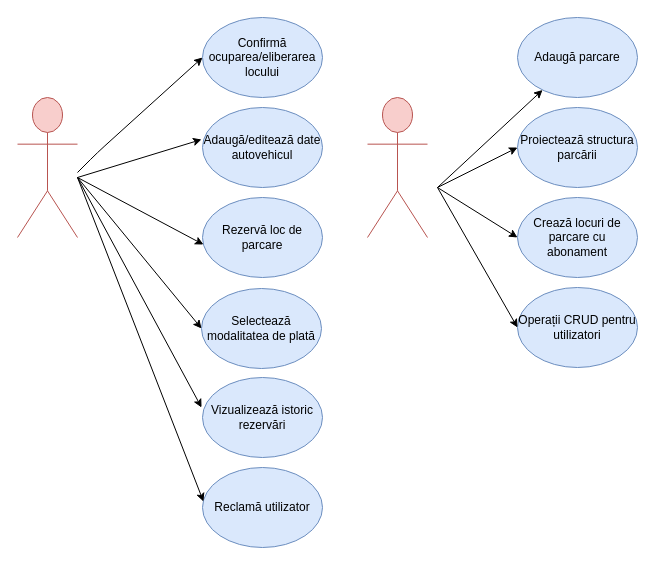
This 655x565 diagram has some shape labels left out. The shapes that lost their labels are listed below. From the top down, each one's box as (x1, y1, x2, y2) in pixels, then its label:
(16, 96, 78, 238): User
(366, 96, 428, 238): Admin
